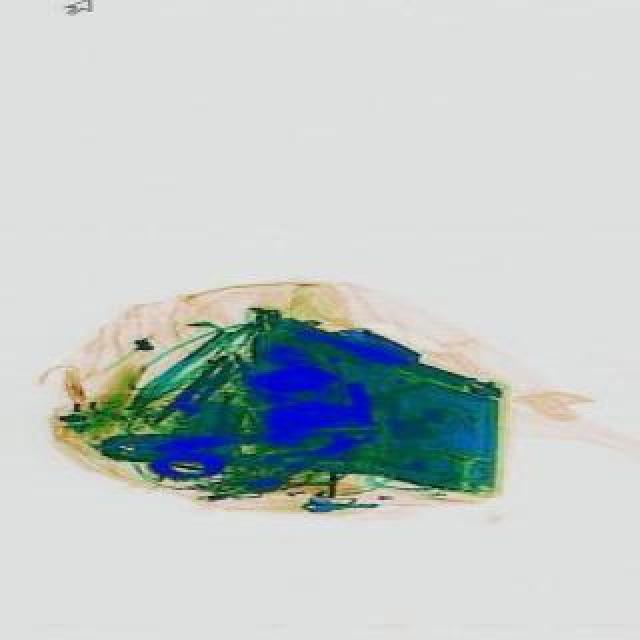scissors: (250, 416, 378, 500)
wrench: (108, 424, 386, 472)
